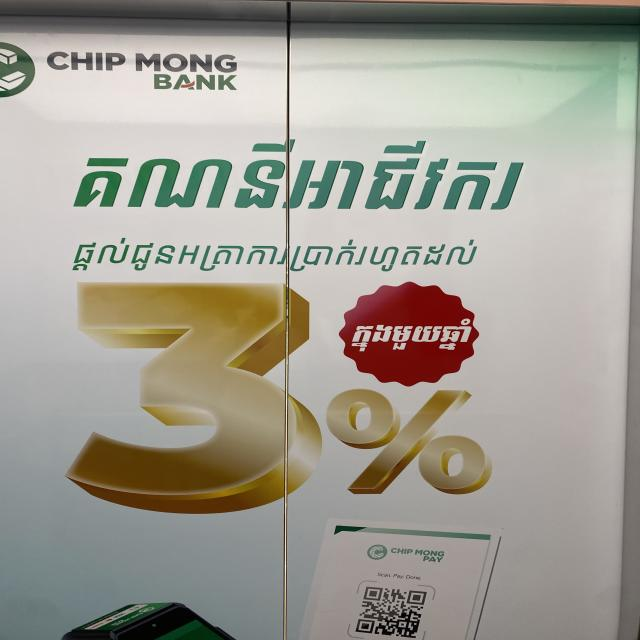702: (28, 281, 335, 524)
Yolov11_80vkh: (61, 138, 542, 219), (314, 380, 503, 509), (65, 229, 489, 278), (343, 312, 489, 359)
